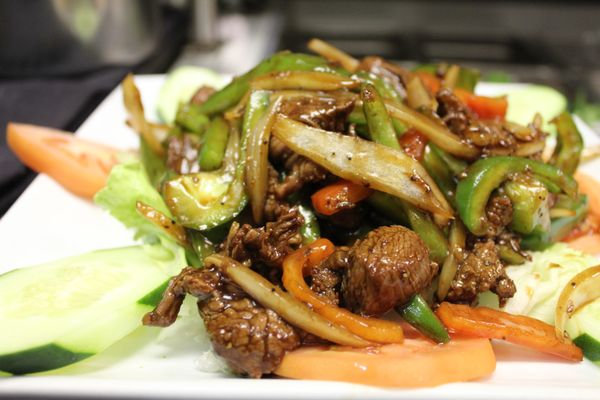pizza: (5, 121, 125, 199), (436, 302, 584, 362), (452, 88, 508, 118)
